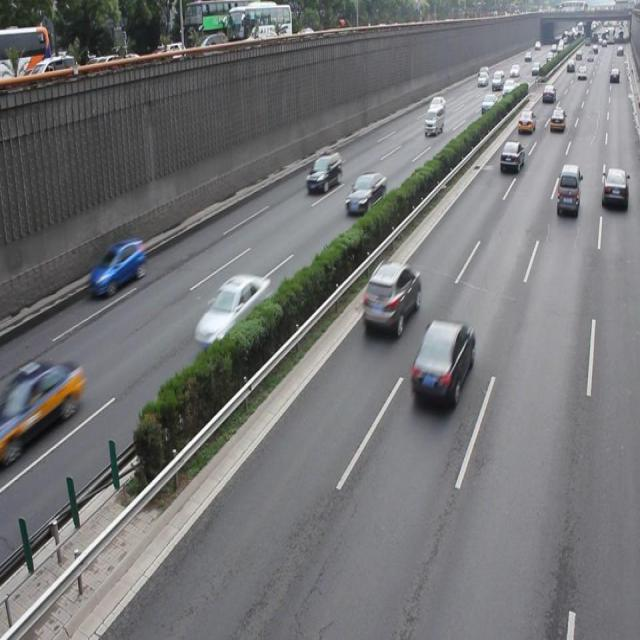car: (1, 356, 82, 464), (195, 270, 270, 350), (409, 318, 474, 408), (361, 259, 421, 335), (88, 235, 146, 295), (344, 170, 385, 214), (306, 148, 342, 193), (601, 167, 627, 209), (498, 139, 524, 176)
truck: (556, 162, 579, 218)
